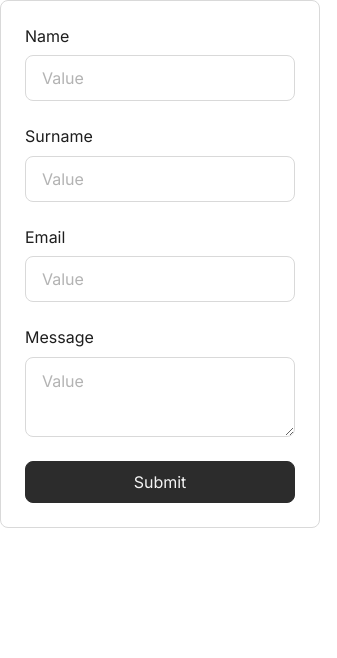
ContactForm › APIエラー時にエラーバナーが表示され、フォームが保持される
Type "Taro" into the field labelled "Name". click: point(160, 78)
box: [25, 55, 295, 101]
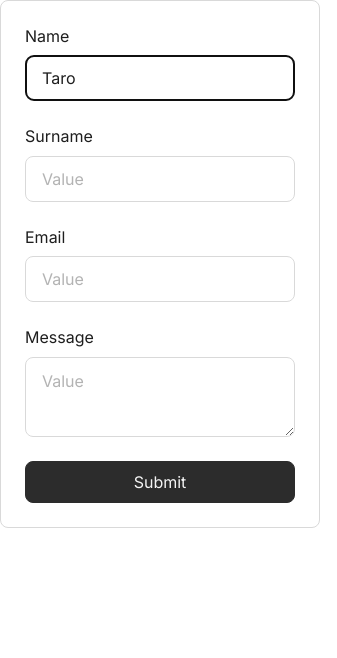
Type "Yamada" into the field labelled "Surname". click: point(160, 179)
box: [25, 156, 295, 202]
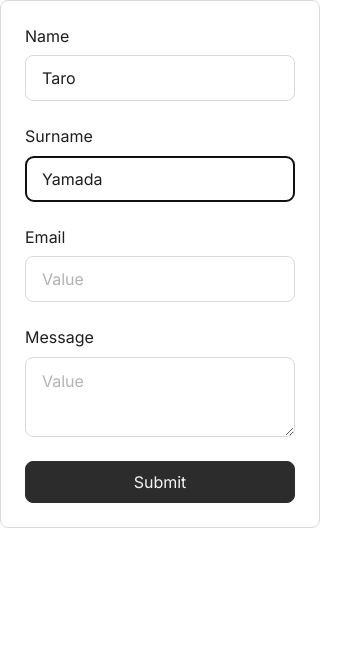
Type "taro@example.com" into the field labelled "Email". click: point(160, 279)
box: [25, 256, 295, 302]
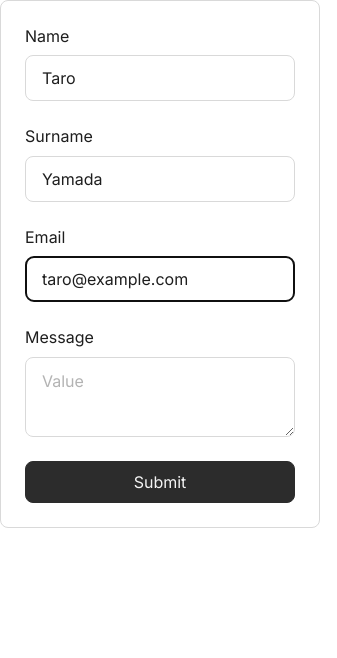
Type "お問い合わせ内容です。" into the text box labelled "Message". click: point(160, 397)
box: [25, 357, 295, 437]
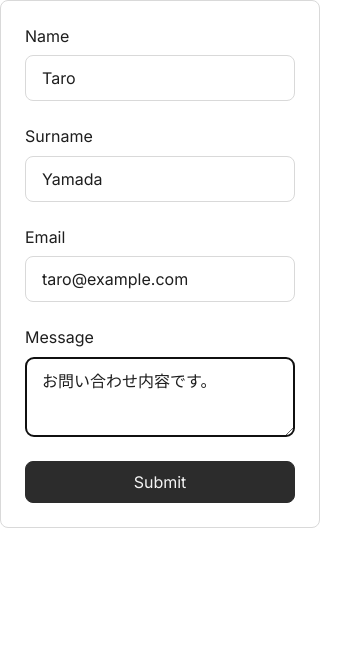
Click the button "Submit". click: point(160, 482)
box: [25, 461, 295, 503]
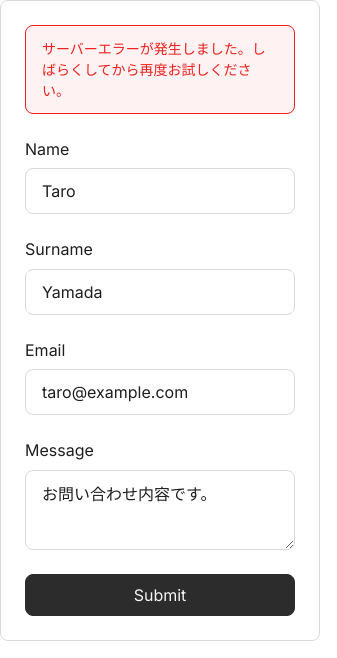
Expected: the text "サーバーエラーが発生しました。しばらくしてから再度お試しください。" is shown, [25, 25, 295, 114]
